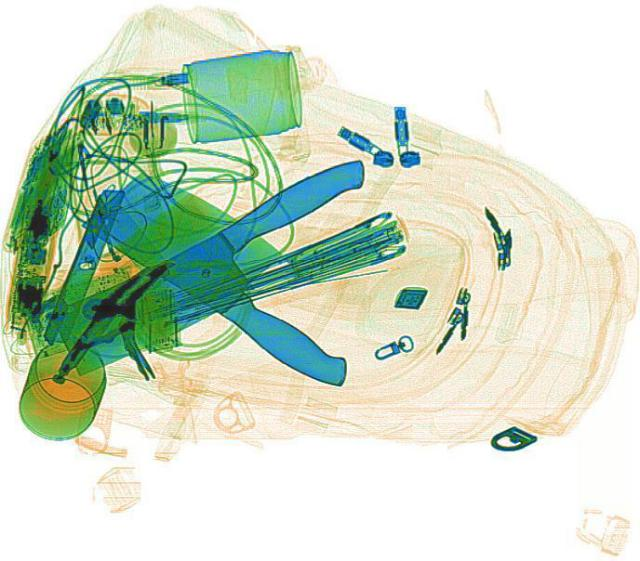Knife: (31, 153, 407, 376), (73, 161, 400, 392)
